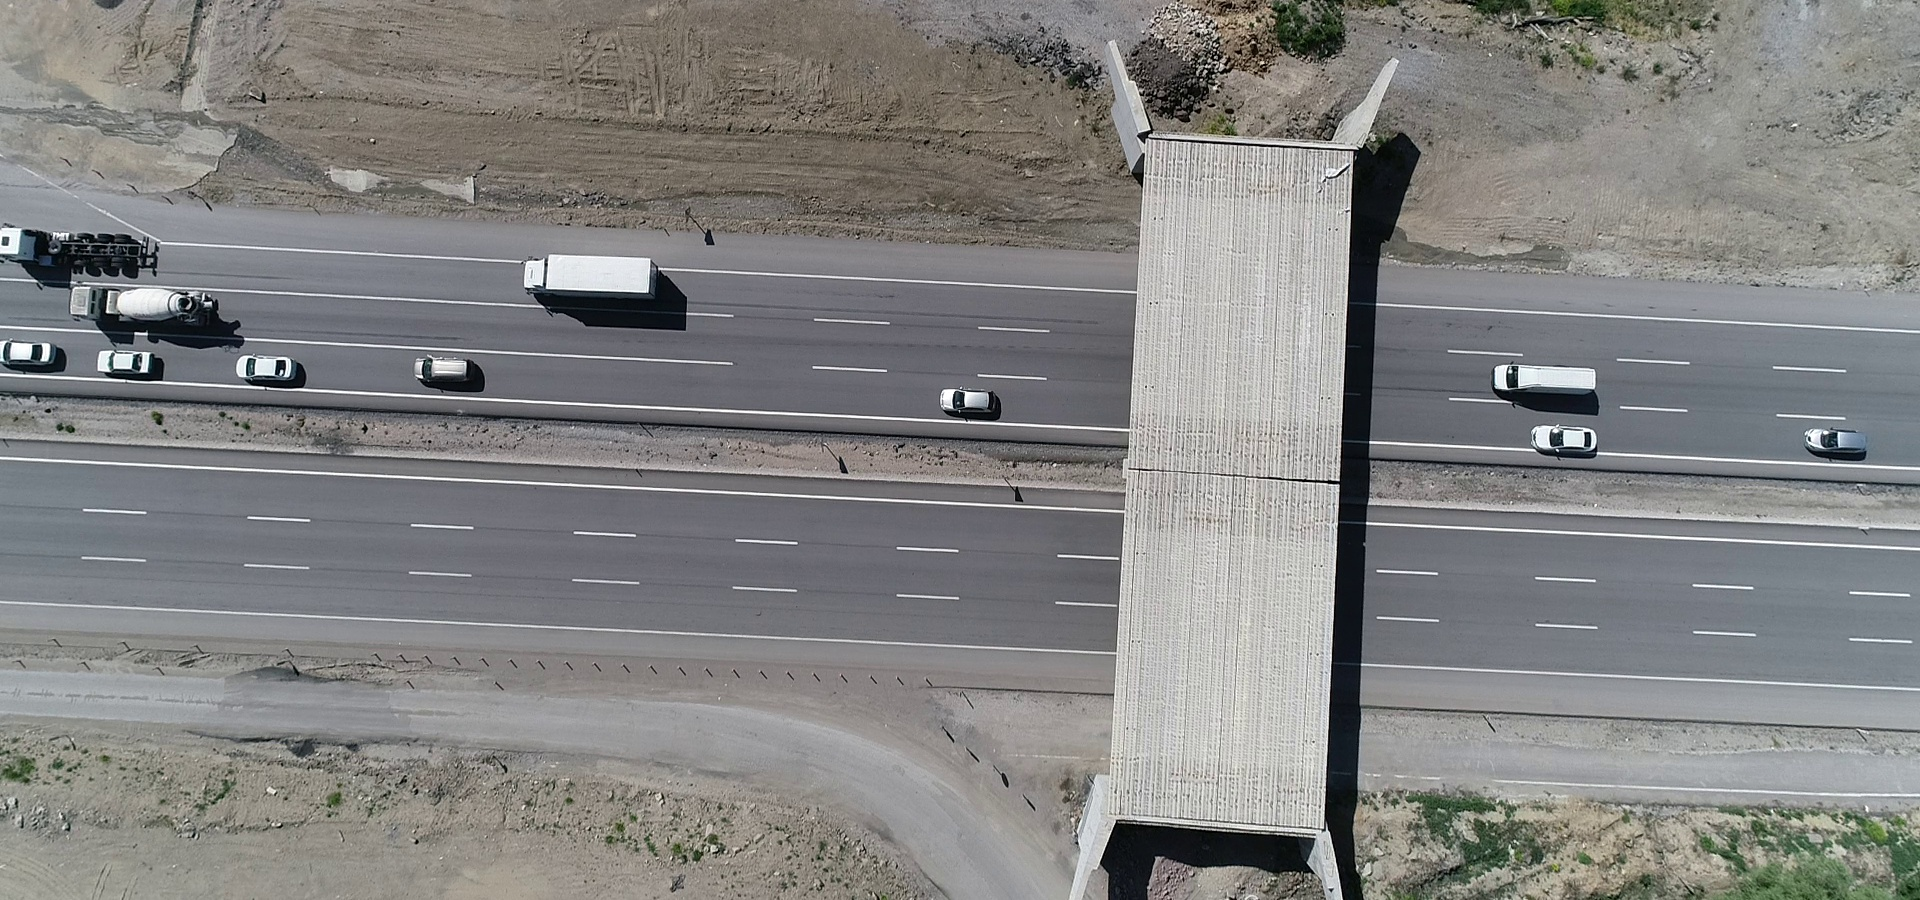araba: (1, 213, 171, 278), (1, 320, 82, 366), (400, 354, 482, 394), (1798, 422, 1877, 460), (928, 381, 998, 422), (231, 345, 301, 387), (92, 353, 173, 387)
kamyon: (66, 278, 231, 338), (516, 250, 671, 307), (1489, 358, 1611, 403)
